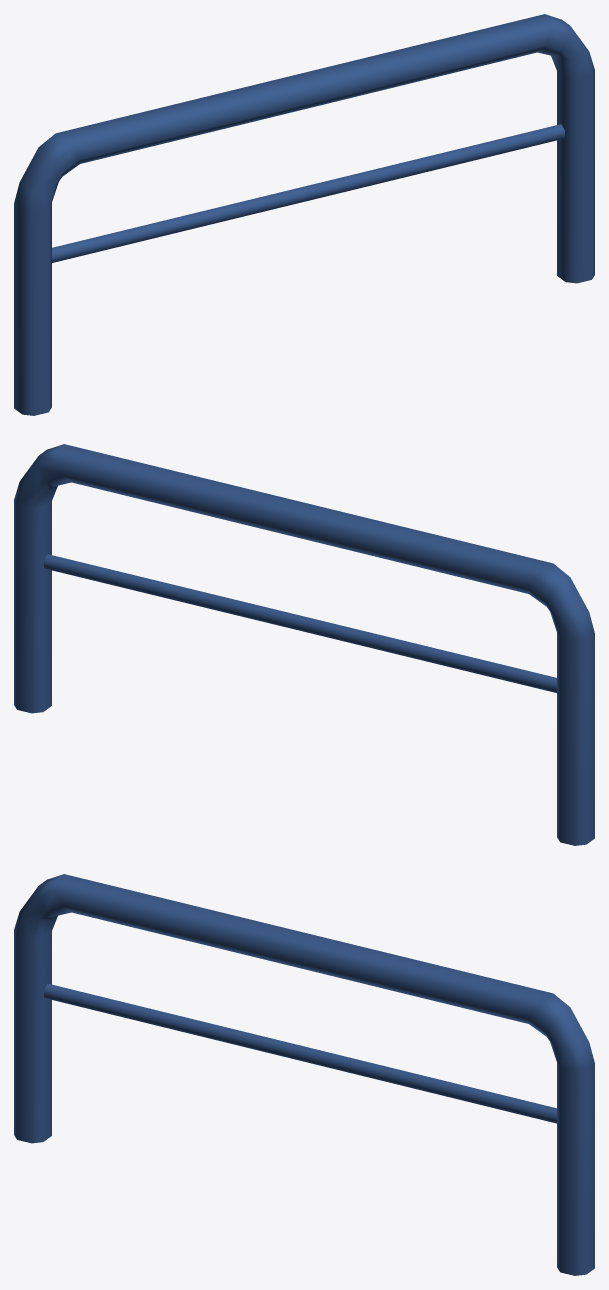
The model's file is VarandaLarga.fbx.
The picture shows the model from 3 angles, top to bottom: view 1: azimuth 30°, elevation 25°; view 2: azimuth 150°, elevation 25°; view 3: azimuth 330°, elevation 25°; orthographic projection.
Visible parts, largest first — view 1: pCube23; view 2: pCube23; view 3: pCube23.
Part boxes in pixels (bbox=[...]): pCube23: bbox=[14, 14, 594, 415]; pCube23: bbox=[14, 444, 594, 845]; pCube23: bbox=[14, 874, 594, 1275].
Size of the model in its own units: 273 by 121 by 14.03.
